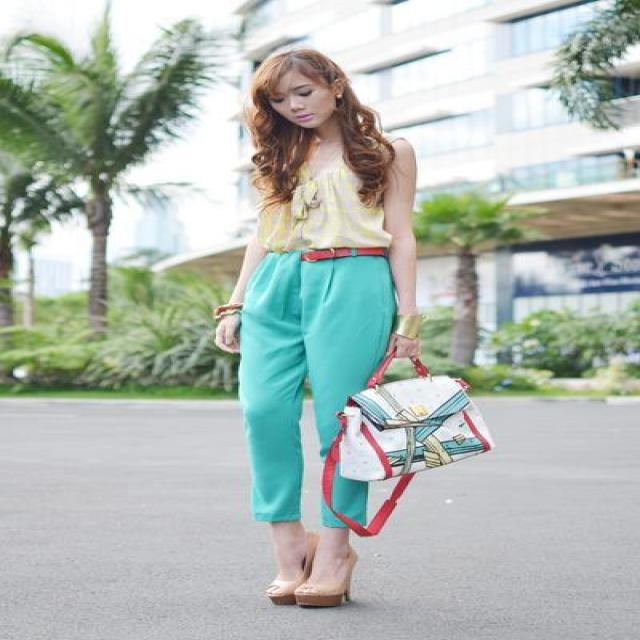bag: (322, 346, 489, 536)
pants: (234, 250, 398, 529)
shirt: (235, 143, 389, 251)
shoe: (266, 568, 370, 614)
